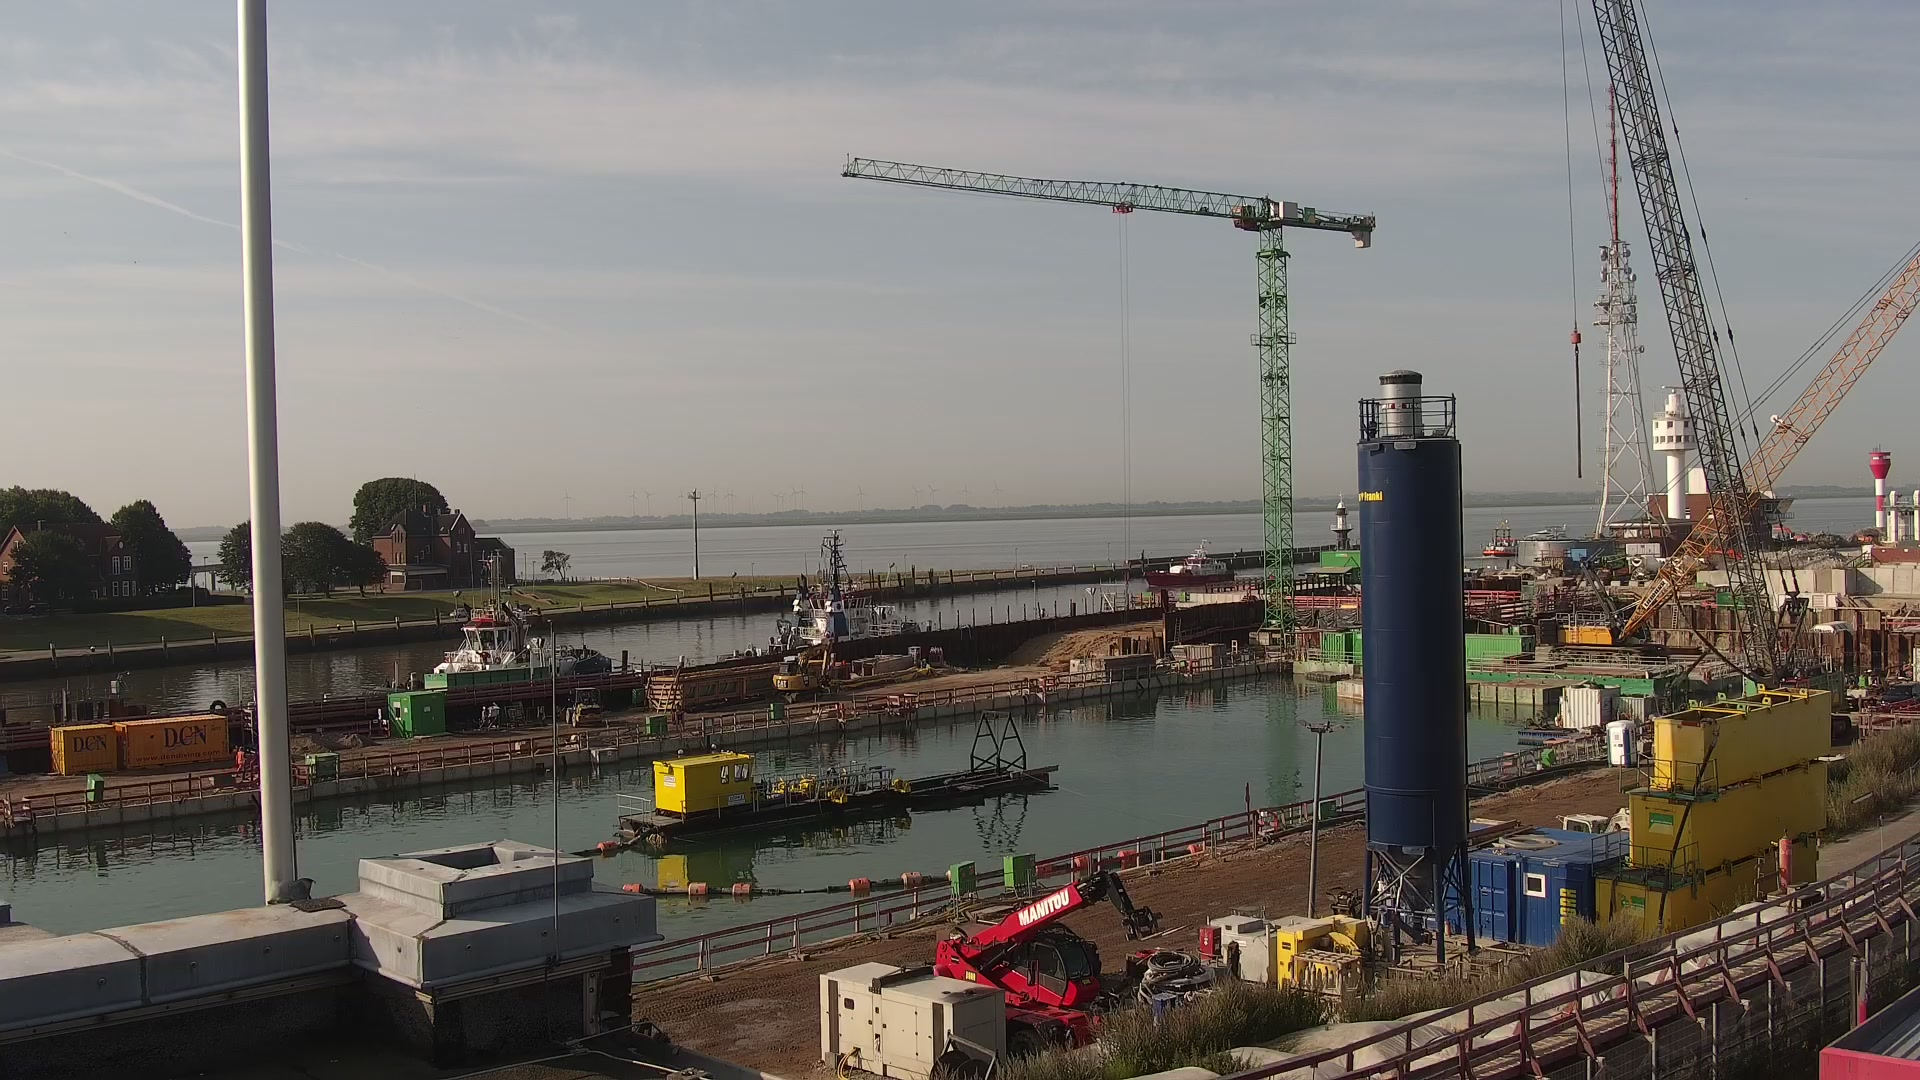human: (232, 744, 242, 775), (236, 746, 247, 777)
land: (565, 687, 603, 727), (23, 602, 51, 616), (4, 601, 25, 616), (449, 608, 468, 618)
sea: (359, 547, 611, 699), (715, 526, 921, 665), (1141, 536, 1234, 586), (1480, 519, 1520, 557), (1523, 522, 1569, 541)
